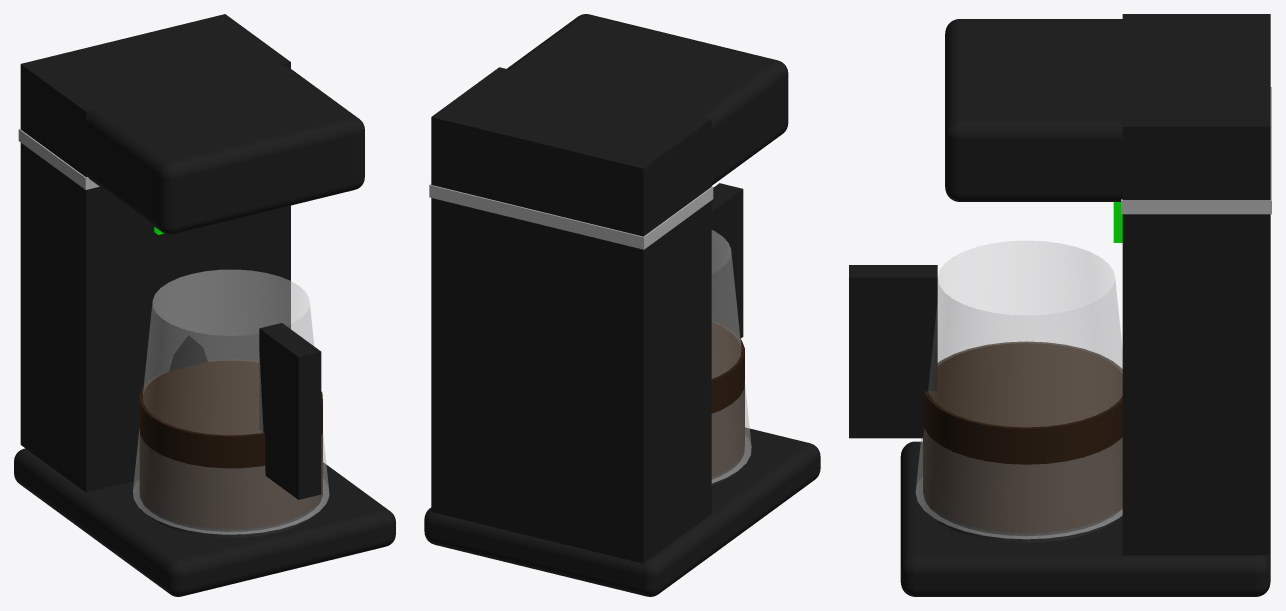
The model's file is state-default.glb.
The picture shows the model from 3 angles, left to right: view 1: azimuth 30°, elevation 25°; view 2: azimuth 150°, elevation 25°; view 3: azimuth 270°, elevation 25°; orthographic projection. The views are drawn at different scales.
Visible parts, largest first — view 1: assetPrim:d146e81adcfb6-19c73d6f1d1:coffee-back-pillar, assetPrim:d146e81adcfb6-19c73d6f1d1:coffee-top-head, assetPrim:d146e81adcfb6-19c73d6f1d1:coffee-carafe-glass, assetPrim:d146e81adcfb6-19c73d6f1d1:coffee-liquid, assetPrim:d146e81adcfb6-19c73d6f1d1:coffee-base, assetPrim:d146e81adcfb6-19c73d6f1d1:coffee-carafe-handle, assetPrim:d146e81adcfb6-19c73d6f1d1:coffee-warming-plate, assetPrim:d146e81adcfb6-19c73d6f1d1:coffee-accent-strip; view 2: assetPrim:d146e81adcfb6-19c73d6f1d1:coffee-back-pillar, assetPrim:d146e81adcfb6-19c73d6f1d1:coffee-top-head, assetPrim:d146e81adcfb6-19c73d6f1d1:coffee-base, assetPrim:d146e81adcfb6-19c73d6f1d1:coffee-carafe-glass, assetPrim:d146e81adcfb6-19c73d6f1d1:coffee-liquid, assetPrim:d146e81adcfb6-19c73d6f1d1:coffee-carafe-handle, assetPrim:d146e81adcfb6-19c73d6f1d1:coffee-accent-strip; view 3: assetPrim:d146e81adcfb6-19c73d6f1d1:coffee-back-pillar, assetPrim:d146e81adcfb6-19c73d6f1d1:coffee-top-head, assetPrim:d146e81adcfb6-19c73d6f1d1:coffee-carafe-glass, assetPrim:d146e81adcfb6-19c73d6f1d1:coffee-liquid, assetPrim:d146e81adcfb6-19c73d6f1d1:coffee-base, assetPrim:d146e81adcfb6-19c73d6f1d1:coffee-carafe-handle, assetPrim:d146e81adcfb6-19c73d6f1d1:coffee-accent-strip, assetPrim:d146e81adcfb6-19c73d6f1d1:coffee-warming-plate.
Part boxes in pixels (x1,y1,x2,y2): assetPrim:d146e81adcfb6-19c73d6f1d1:coffee-back-pillar: [20, 14, 290, 492]; assetPrim:d146e81adcfb6-19c73d6f1d1:coffee-top-head: [27, 21, 364, 234]; assetPrim:d146e81adcfb6-19c73d6f1d1:coffee-carafe-glass: [133, 269, 329, 534]; assetPrim:d146e81adcfb6-19c73d6f1d1:coffee-liquid: [139, 359, 322, 529]; assetPrim:d146e81adcfb6-19c73d6f1d1:coffee-base: [14, 448, 395, 596]; assetPrim:d146e81adcfb6-19c73d6f1d1:coffee-carafe-handle: [259, 323, 321, 499]; assetPrim:d146e81adcfb6-19c73d6f1d1:coffee-warming-plate: [139, 492, 322, 537]; assetPrim:d146e81adcfb6-19c73d6f1d1:coffee-accent-strip: [18, 129, 99, 189]; assetPrim:d146e81adcfb6-19c73d6f1d1:coffee-back-pillar: [431, 67, 711, 563]; assetPrim:d146e81adcfb6-19c73d6f1d1:coffee-top-head: [443, 14, 788, 226]; assetPrim:d146e81adcfb6-19c73d6f1d1:coffee-base: [424, 427, 820, 596]; assetPrim:d146e81adcfb6-19c73d6f1d1:coffee-carafe-glass: [711, 230, 751, 483]; assetPrim:d146e81adcfb6-19c73d6f1d1:coffee-liquid: [711, 320, 744, 479]; assetPrim:d146e81adcfb6-19c73d6f1d1:coffee-carafe-handle: [711, 183, 743, 338]; assetPrim:d146e81adcfb6-19c73d6f1d1:coffee-accent-strip: [429, 184, 713, 249]; assetPrim:d146e81adcfb6-19c73d6f1d1:coffee-back-pillar: [1122, 14, 1270, 555]; assetPrim:d146e81adcfb6-19c73d6f1d1:coffee-top-head: [945, 19, 1255, 201]; assetPrim:d146e81adcfb6-19c73d6f1d1:coffee-carafe-glass: [915, 240, 1122, 539]; assetPrim:d146e81adcfb6-19c73d6f1d1:coffee-liquid: [923, 341, 1122, 533]; assetPrim:d146e81adcfb6-19c73d6f1d1:coffee-base: [900, 441, 1270, 596]; assetPrim:d146e81adcfb6-19c73d6f1d1:coffee-carafe-handle: [849, 265, 937, 438]; assetPrim:d146e81adcfb6-19c73d6f1d1:coffee-accent-strip: [1121, 87, 1271, 214]; assetPrim:d146e81adcfb6-19c73d6f1d1:coffee-warming-plate: [923, 491, 1122, 542].
Size of the model in its own units: 0.2 by 0.35 by 0.286.
